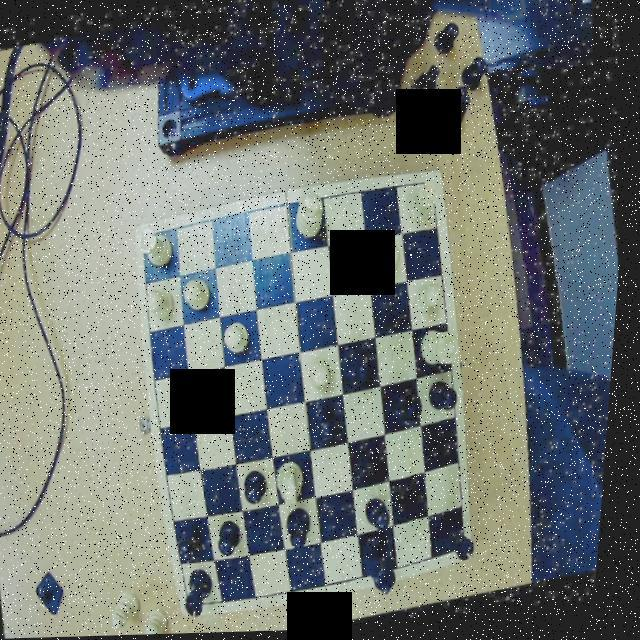chess-table-corners: (138, 225, 164, 254), (418, 172, 444, 199), (460, 534, 482, 564), (190, 594, 213, 619)
